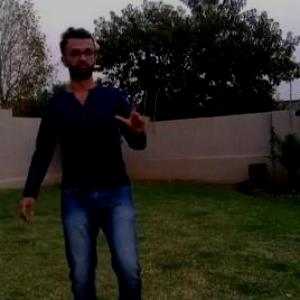land_hand: (112, 91, 150, 142)
